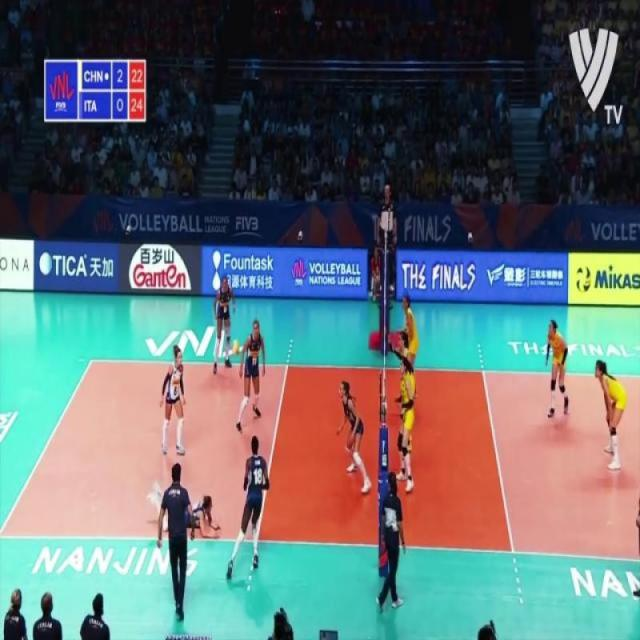volleyball: (574, 265, 593, 296), (231, 337, 243, 356)
